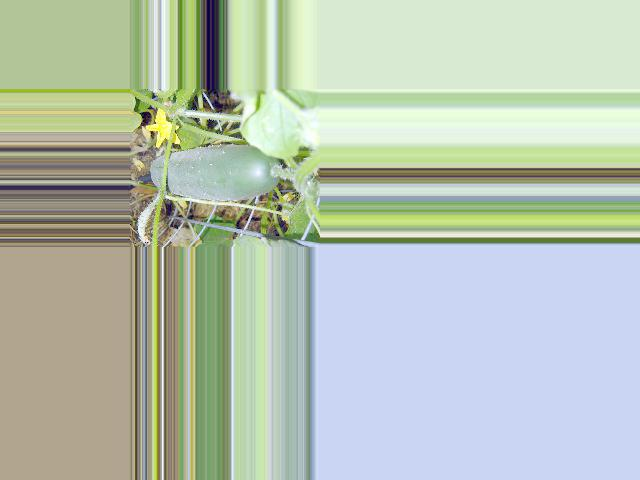cucumber: (151, 145, 280, 202)
